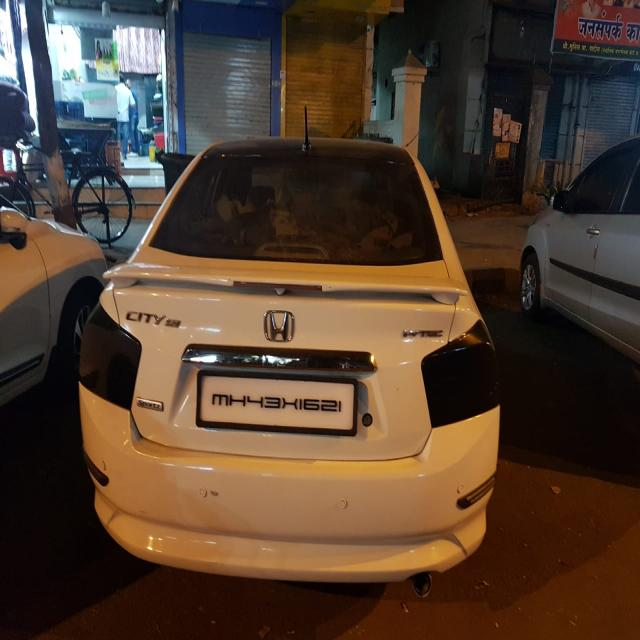Number-Plate: (203, 374, 356, 426)
